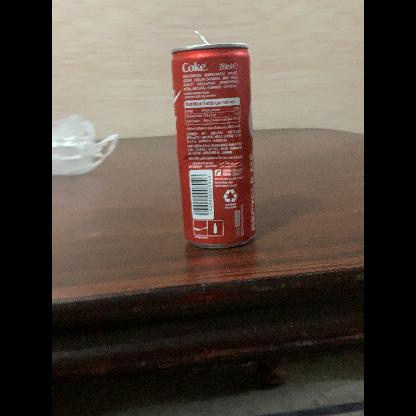Dent_Can: (178, 143, 219, 172), (213, 154, 243, 180)
Lid_Open: (187, 24, 221, 52)
Tin_Can: (166, 26, 262, 258)
